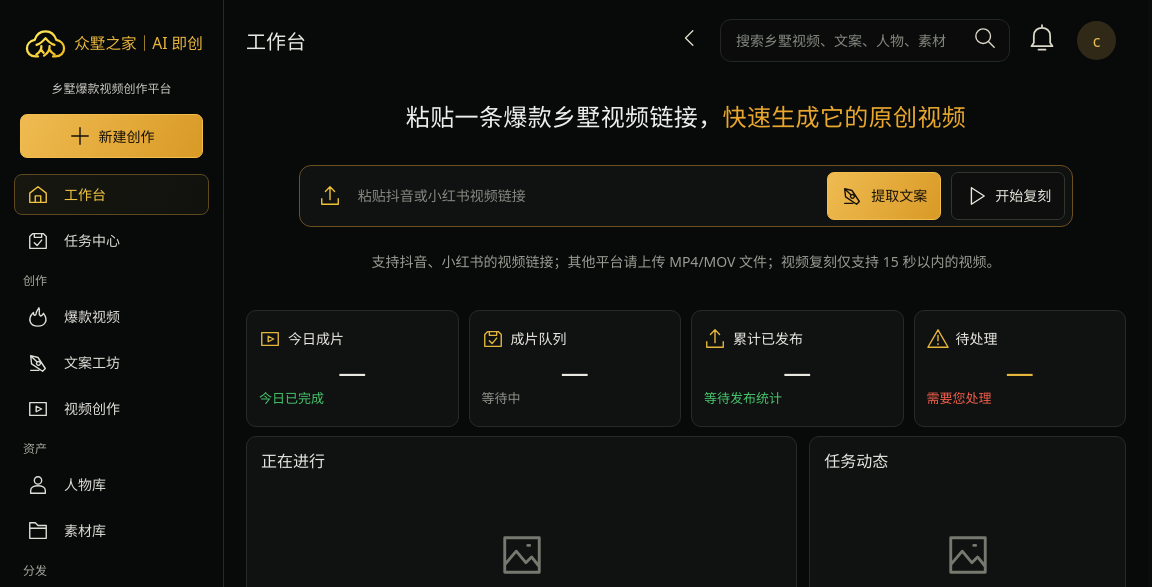
Scenario: CustomerWorkspace (T31) › shows a non-auth profile failure and retries without hanging
Click the button named "用户档案".
click(1096, 40)  # box [1074,18,1119,63]
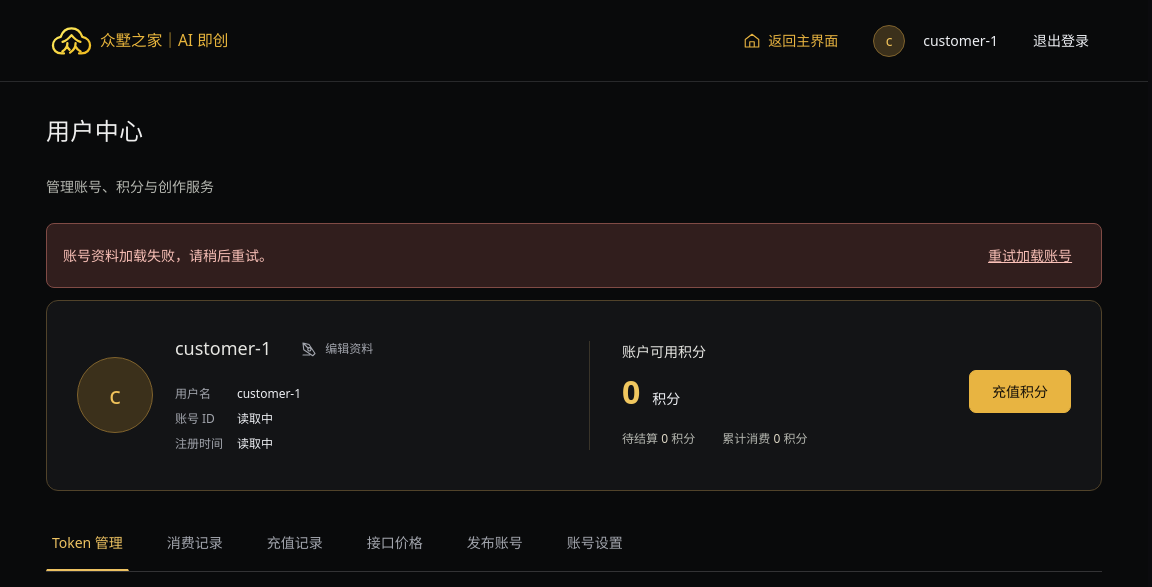
Expected: the heading "用户中心" is shown, [46,114,143,147]
Expected: the text "账号资料加载失败，请稍后重试。" is shown, [63,246,273,265]
Click the button "重试加载账号".
click(1030, 255)  # box [975,236,1085,275]
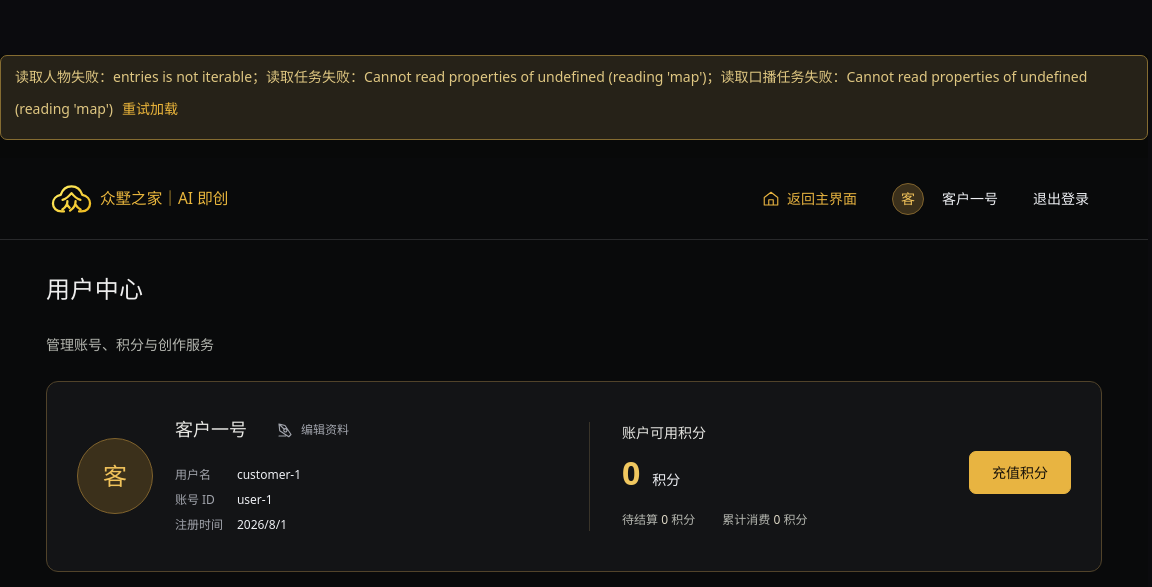
Expected: the heading "客户一号 编辑资料" is shown, [175,412,362,448]
